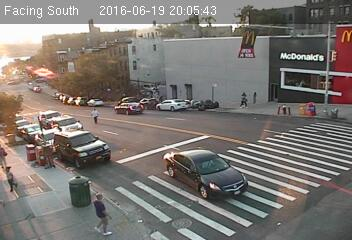neg: (81, 47, 99, 71), (179, 55, 196, 78), (140, 81, 157, 103), (194, 124, 211, 146), (281, 100, 297, 121), (172, 104, 188, 125), (241, 53, 256, 73), (216, 157, 231, 177), (240, 161, 255, 181), (297, 57, 311, 76), (144, 43, 156, 60)
pos: (85, 190, 117, 233), (2, 164, 24, 194), (86, 107, 100, 125), (238, 89, 251, 107), (251, 90, 262, 105)
